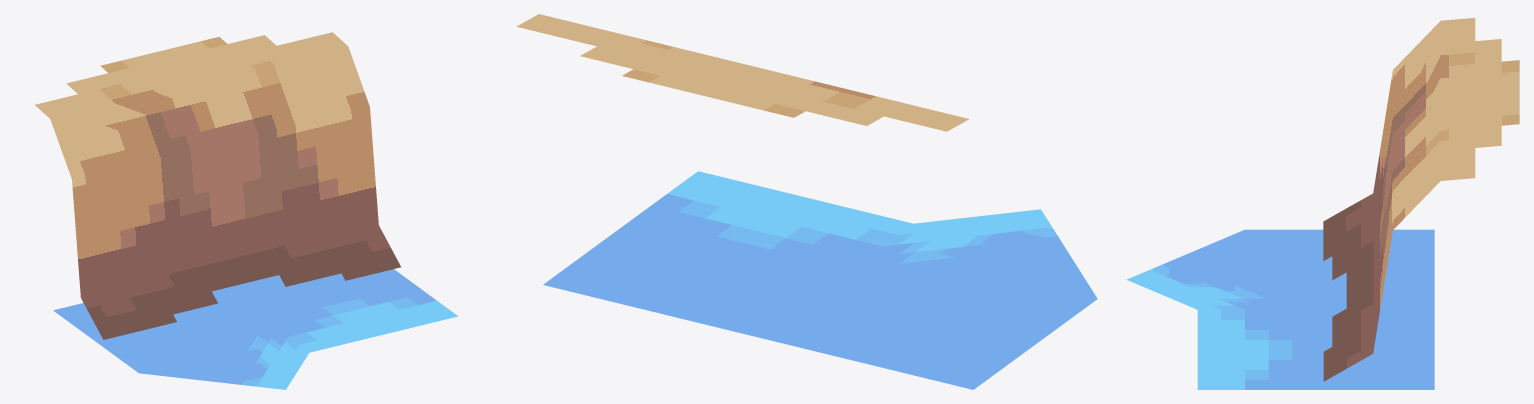
3 views of the same model, side by side, from view 1: azimuth 30°, elevation 25°; view 2: azimuth 150°, elevation 25°; view 3: azimuth 270°, elevation 25° (orthographic). The views are drawn at different scales.
Bounding box in the file's own units: 1 × 0.627 × 1.04.
Materials: 2 (2 with a texture image).
